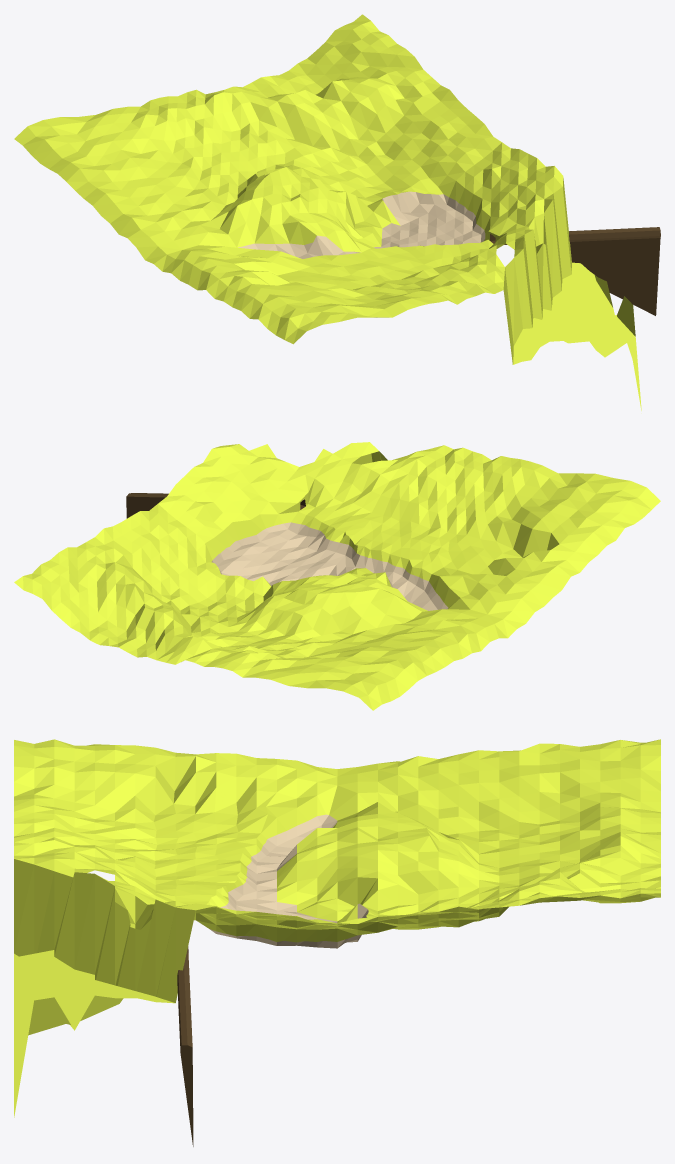
The model's file is GrassField.fbx.
The picture shows the model from 3 angles, top to bottom: view 1: azimuth 30°, elevation 25°; view 2: azimuth 150°, elevation 25°; view 3: azimuth 270°, elevation 25°; orthographic projection. The views are drawn at different scales.
Parts seen in each view (by area): view 1: Plane.001; view 2: Plane.001; view 3: Plane.001.
Part boxes in pixels (x1,y1,x2,y2): Plane.001: (14,14,660,410); Plane.001: (14,442,660,710); Plane.001: (14,739,660,1146).
Size of the model in its own units: 207 by 87.35 by 227.
